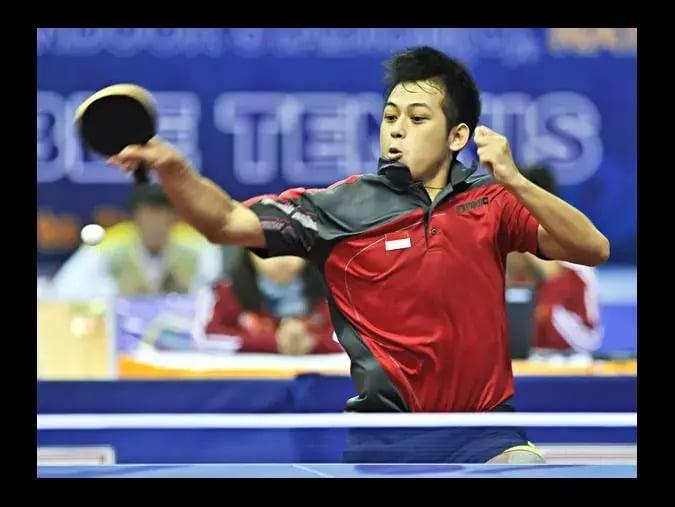ball_pingpong: (80, 224, 104, 244)
